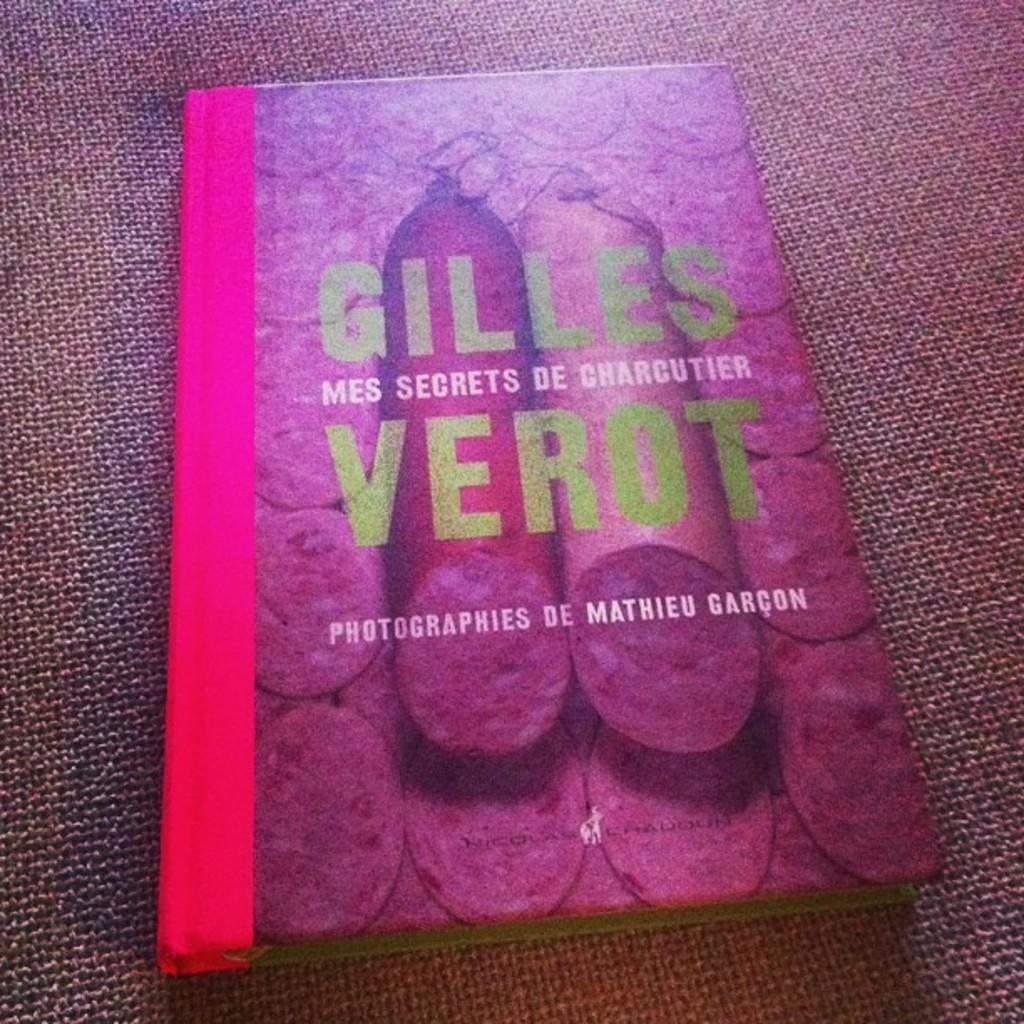book: (87, 62, 967, 942)
